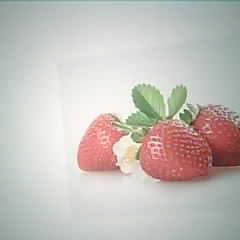straw-ripe: (139, 118, 213, 180), (77, 112, 129, 170)
